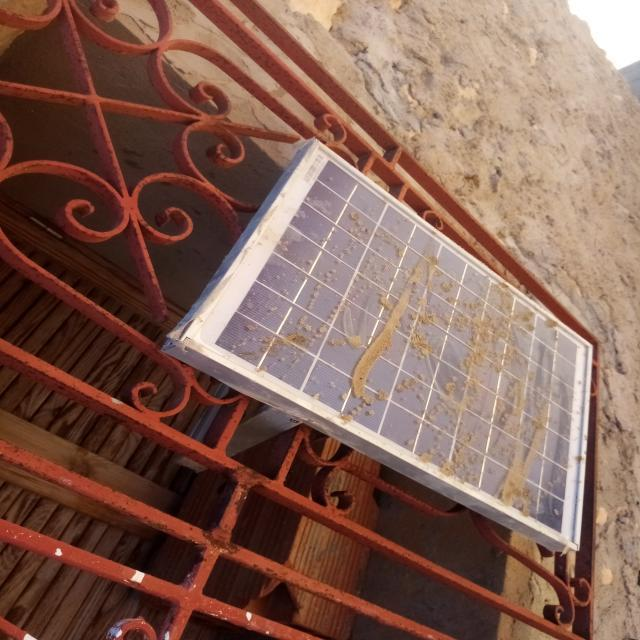faulty: (176, 145, 593, 542)
